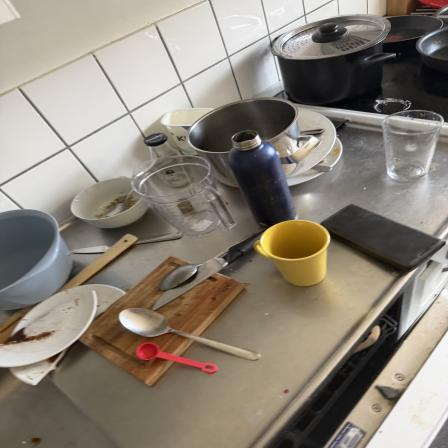blue_bottle: (227, 132, 300, 228)
phone: (316, 201, 446, 270)
yellow_cup: (254, 218, 337, 289)
